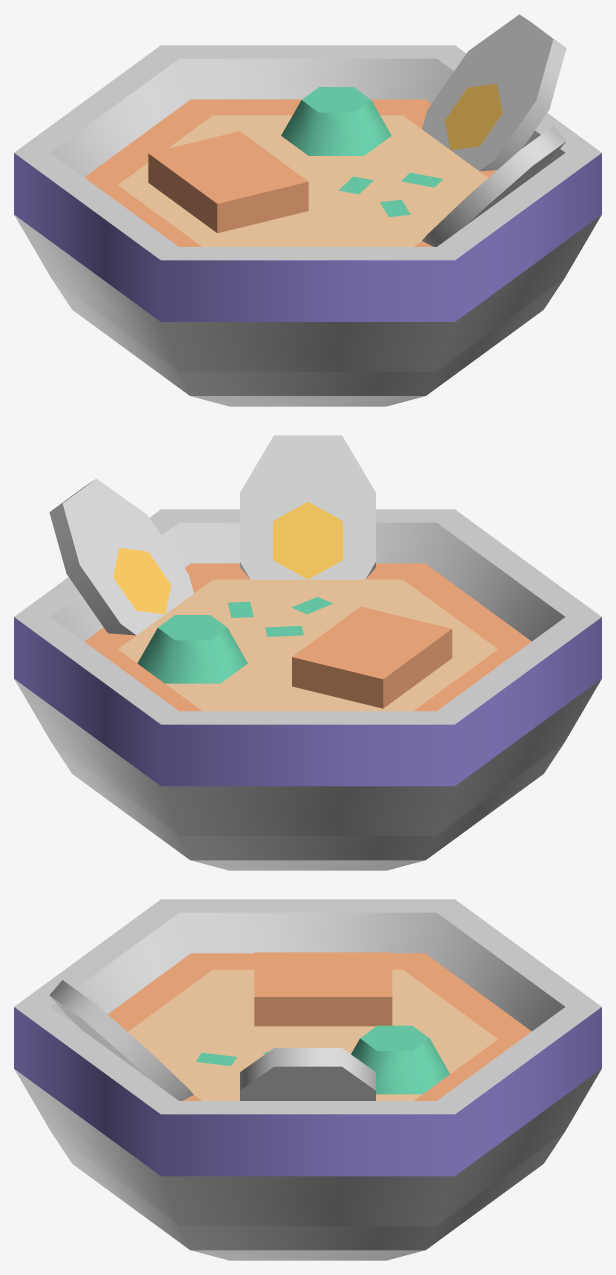
File: bowlBroth.dae
3 views of the same model, one above another, from view 1: azimuth 30°, elevation 25°; view 2: azimuth 150°, elevation 25°; view 3: azimuth 270°, elevation 25° (orthographic).
Visible parts, largest first — view 1: bowlBroth, Group (×2); view 2: bowlBroth, Group (×2); view 3: bowlBroth, Group (×2).
Part boxes in pixels (<box>): bowlBroth: <box>14,45,601,406</box>; Group (×2): <box>422,14,566,246</box>; bowlBroth: <box>14,509,601,870</box>; Group (×2): <box>49,435,375,635</box>; bowlBroth: <box>14,899,601,1260</box>; Group (×2): <box>49,980,375,1100</box>.
Size of the model in its own units: 0.5262 by 0.2903 by 0.5798.
